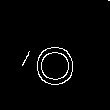O_W: (33, 51, 78, 95)
